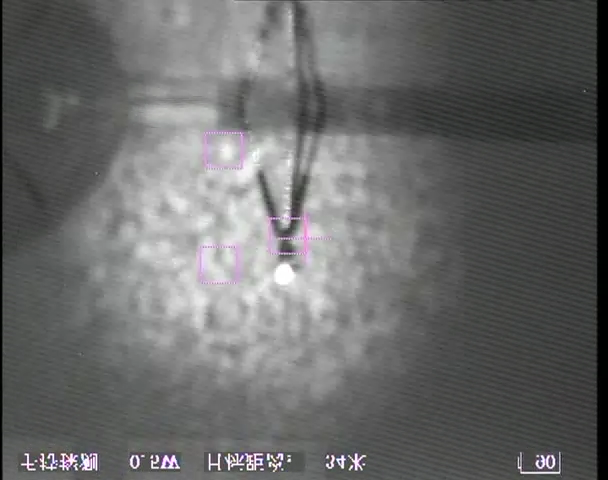my: (272, 261, 296, 288)
